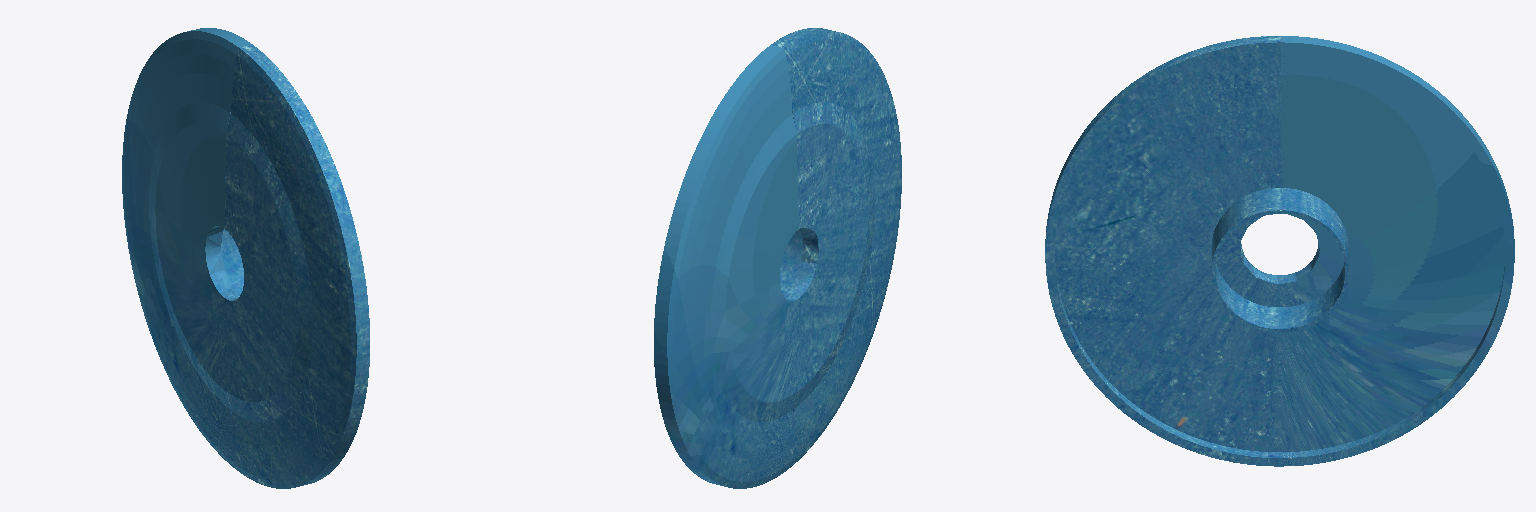
3 views of the same model, side by side, from view 1: azimuth 30°, elevation 25°; view 2: azimuth 150°, elevation 25°; view 3: azimuth 270°, elevation 25° (orthographic).
Parts seen in each view (by area): view 1: Cylinder.031; view 2: Cylinder.031; view 3: Cylinder.031.
Part boxes in pixels (x1,y1,x2,y2): Cylinder.031: (122,28,369,488); Cylinder.031: (654,28,901,488); Cylinder.031: (1045,36,1514,466).
Bounding box in the file's own units: 0.0174 × 0.1132 × 0.1135.
Materials: 1 (1 with a texture image).